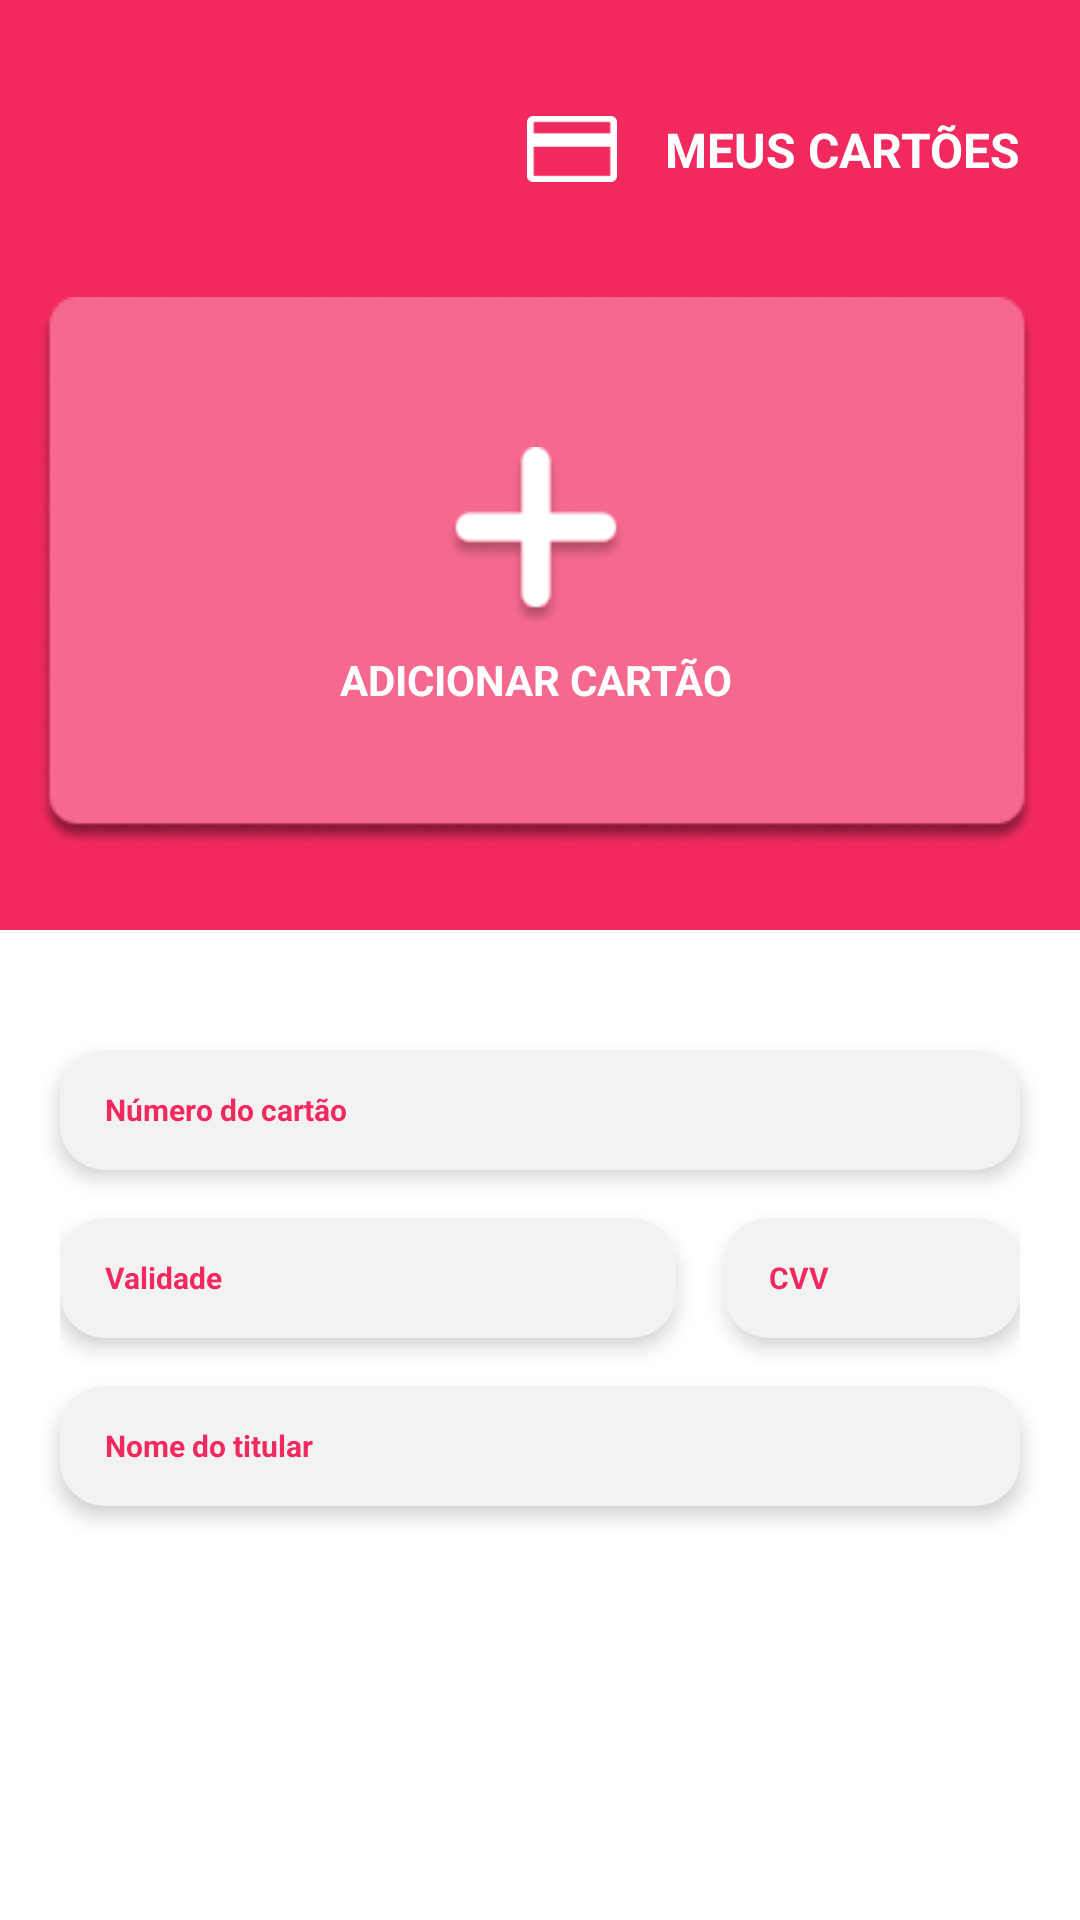

Icon click points for this 1080px x 1920px phone screenshot, format (x=x, y=y):
card branco: (x=572, y=149)
